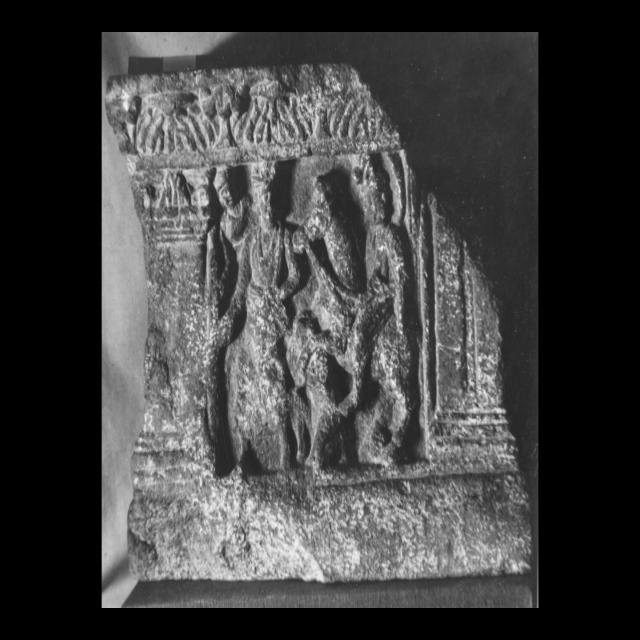buddha-horse-riding: (288, 153, 418, 459)
